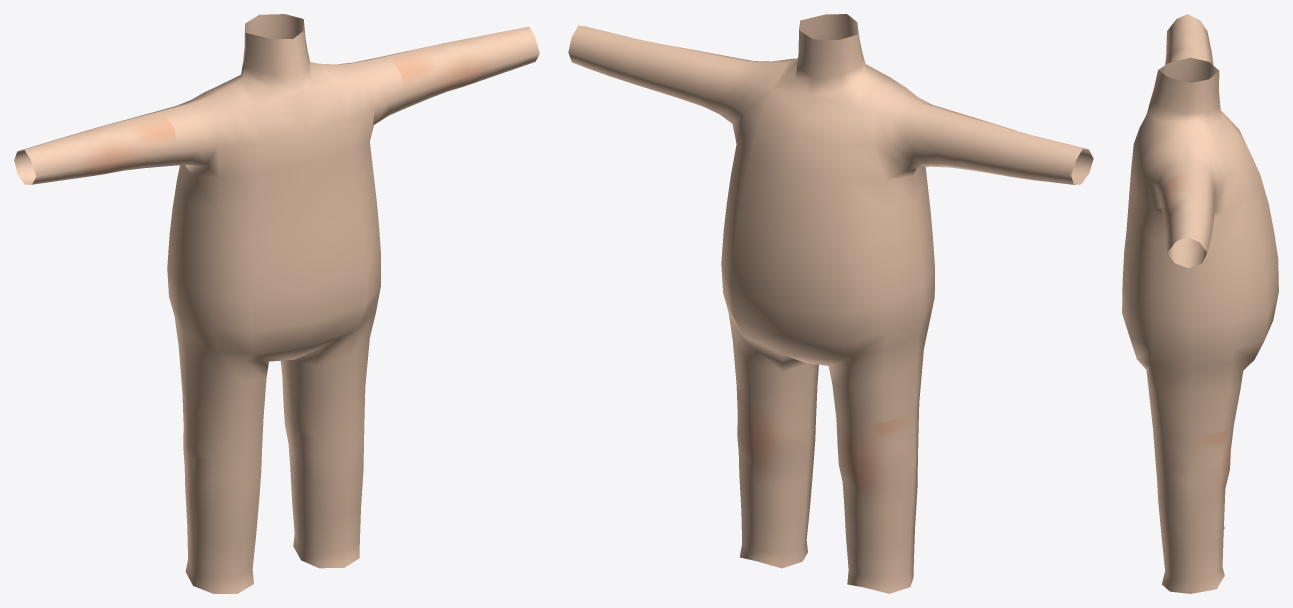
The model's file is Body_3.fbx.
The picture shows the model from 3 angles, left to right: view 1: azimuth 30°, elevation 25°; view 2: azimuth 150°, elevation 25°; view 3: azimuth 270°, elevation 25°; orthographic projection. The views are drawn at different scales.
Visible parts, largest first — view 1: Body_3; view 2: Body_3; view 3: Body_3.
Boxes of the visible parts, x1,y1,x2,y2 form: Body_3: (14, 14, 539, 593); Body_3: (568, 14, 1093, 593); Body_3: (1122, 14, 1278, 593).
Size of the model in its own units: 95.86 by 98.58 by 28.57.
